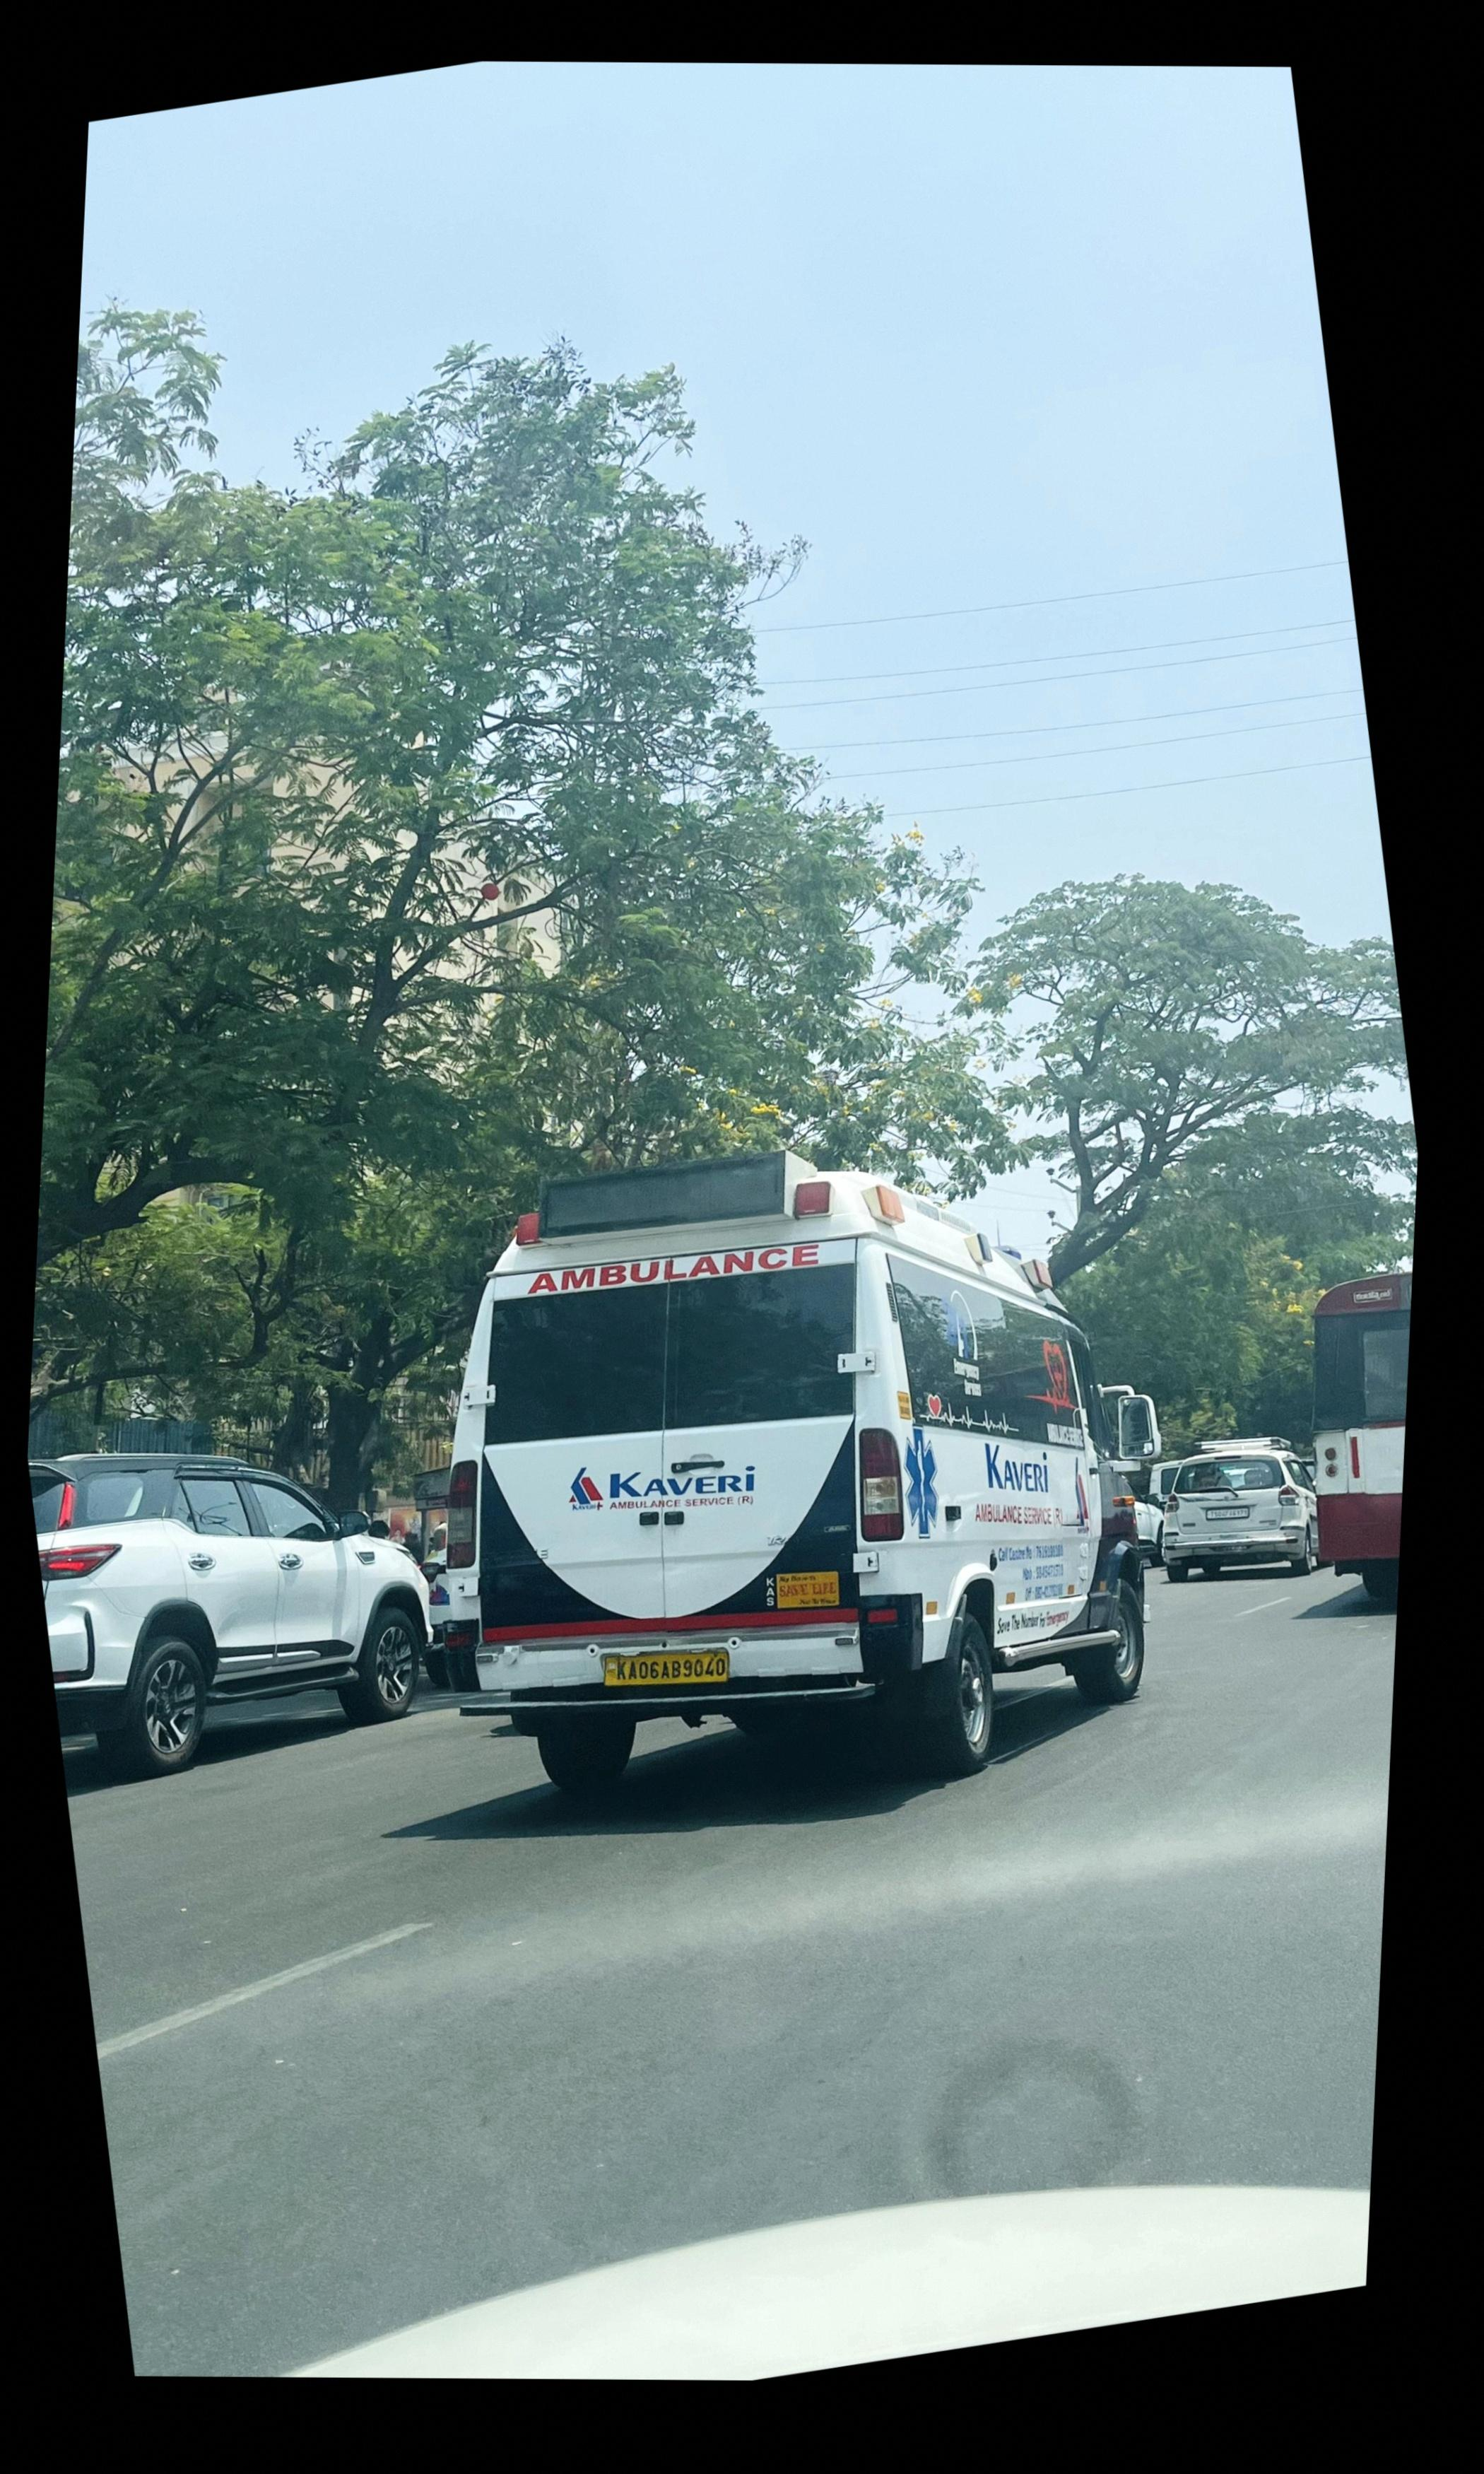ambulance: (422, 1152, 1150, 1801)
